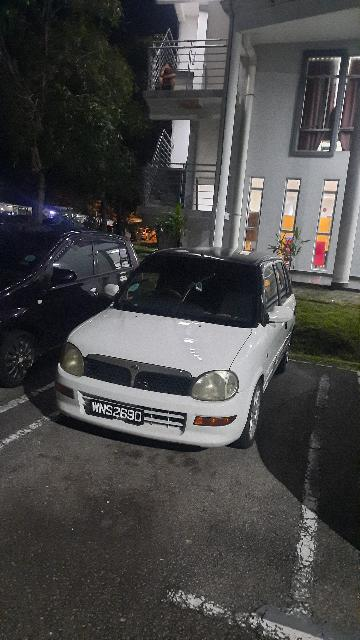License_Plate: (90, 400, 146, 428)
car: (55, 246, 300, 449), (1, 222, 153, 396)
